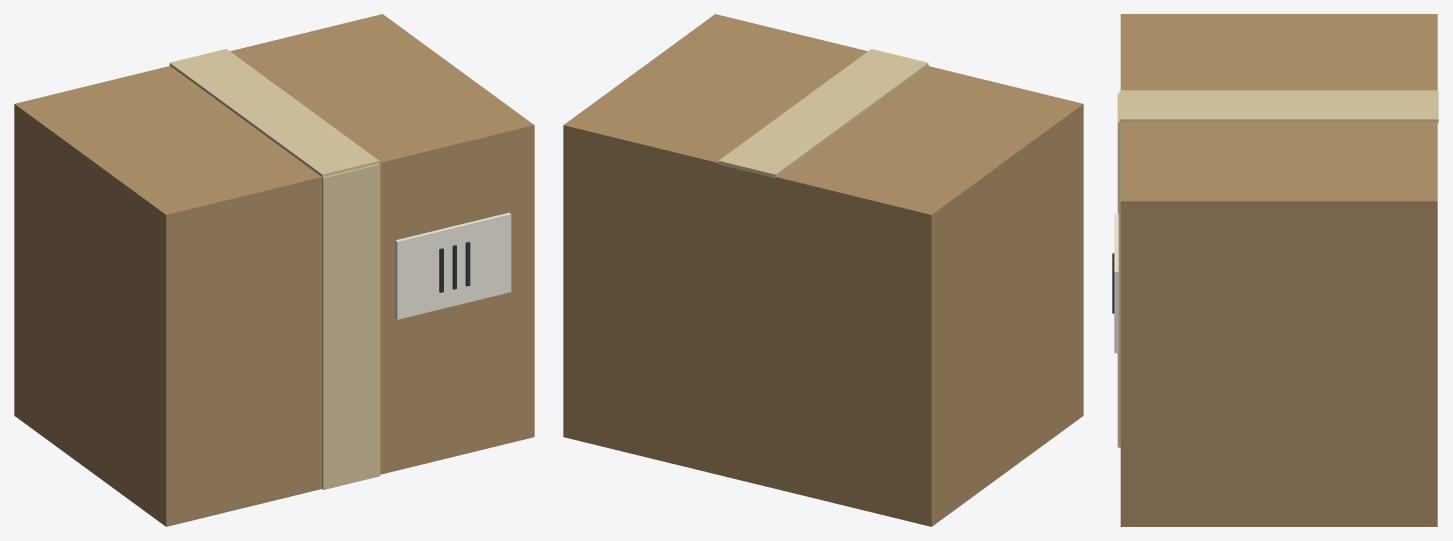
File: tw_carry_parcel.glb
The picture shows the model from 3 angles, left to right: view 1: azimuth 30°, elevation 25°; view 2: azimuth 150°, elevation 25°; view 3: azimuth 270°, elevation 25°; orthographic projection. The views are drawn at different scales.
Parts seen in each view (by area): view 1: CorrugatedKraft, PackingTape, BlankShippingLabel, WovenBlackStrap; view 2: CorrugatedKraft, PackingTape; view 3: CorrugatedKraft, PackingTape, BlankShippingLabel.
Part boxes in pixels (box(x1,y1,x2,y2)): CorrugatedKraft: box(14, 14, 534, 526); PackingTape: box(169, 49, 380, 489); BlankShippingLabel: box(395, 212, 511, 319); WovenBlackStrap: box(439, 242, 470, 292); CorrugatedKraft: box(563, 14, 1083, 526); PackingTape: box(718, 49, 929, 178); CorrugatedKraft: box(1120, 14, 1437, 526); PackingTape: box(1117, 90, 1438, 447); BlankShippingLabel: box(1114, 214, 1118, 353).
Size of the model in its own units: 0.42 by 0.343 by 0.309.
